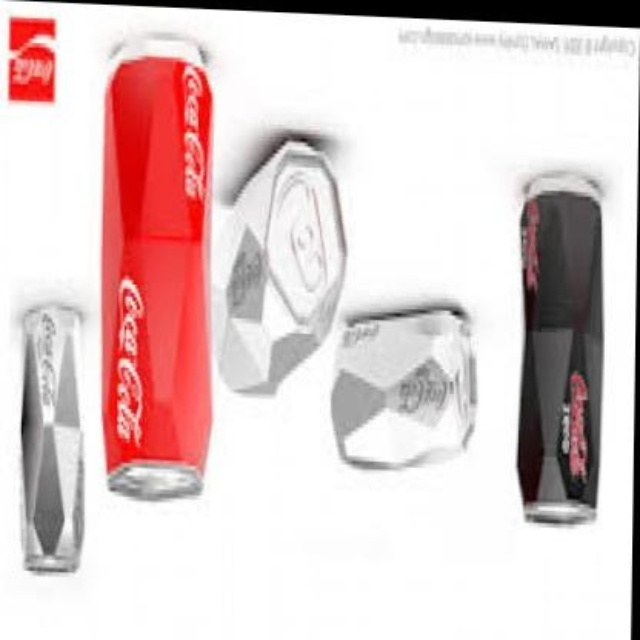trash: (102, 55, 211, 498), (220, 140, 345, 392), (518, 174, 602, 522), (332, 305, 475, 466), (22, 306, 82, 571)
